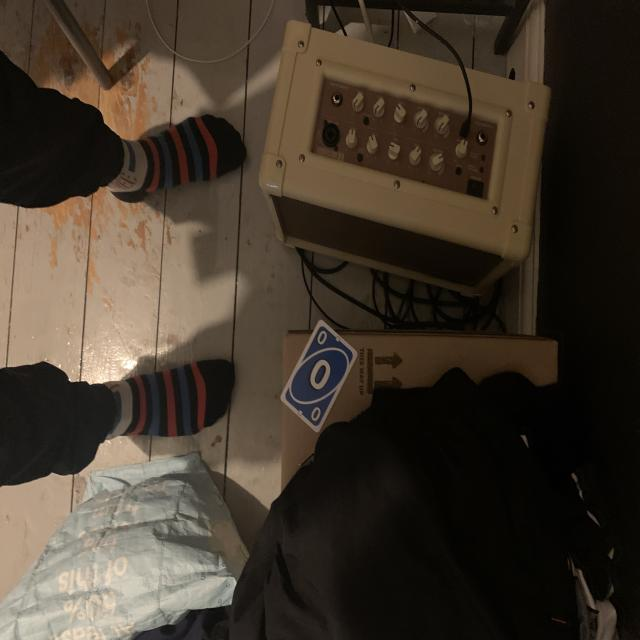lblue-0: (313, 329, 331, 346)
